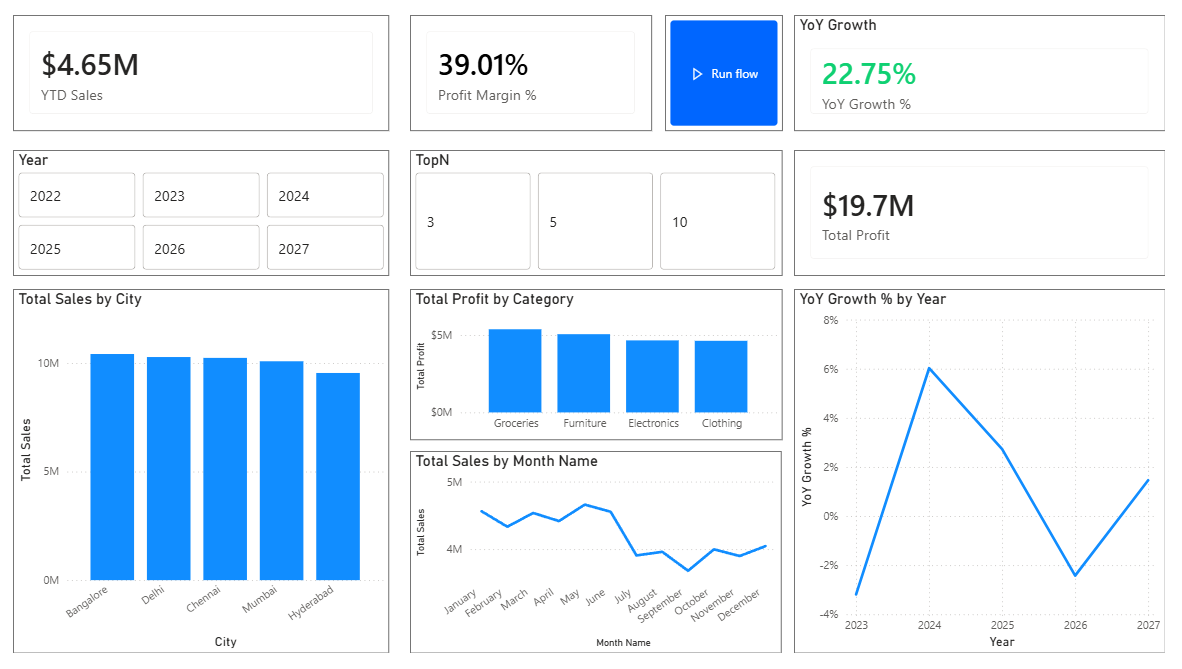

The page's visual inventory and layout, read from the dashboard file:
{"tool":"powerbi","page":{"name":"Page 1","canvas":[1280,720],"ordinal":0},"visuals":[{"type":"cardVisual","fields":{"Data":["Dim_City.YTD Sales"]},"box":[0,11.3,418.2,128.6],"z":0},{"type":"lineChart","fields":{"Category":["Dim_Date.Month Name"],"Y":["Dim_City.Total Sales"]},"box":[440.8,495.9,412.5,224.6],"z":1000},{"type":"advancedSlicerVisual","fields":{"Values":["TopN_Table.TopN"]},"box":[440.8,161.1,414,139.9],"z":2000},{"type":"clusteredColumnChart","fields":{"Category":["Dim_City.City"],"Y":["Dim_City.Total Sales"]},"box":[0,315.1,418.2,405.5],"z":3000},{"type":"advancedSlicerVisual","fields":{"Values":["Dim_Date.Year"]},"box":[0,161.1,418.2,139.9],"z":4000},{"type":"cardVisual","title":"YoY Growth","fields":{"Data":["Dim_City.YoY Growth %"]},"box":[867.5,11.3,412.5,128.6],"z":5000},{"type":"cardVisual","fields":{"Data":["Dim_City.Profit Margin %"]},"box":[440.8,11.3,414,128.6],"z":6000},{"type":"lineChart","fields":{"Category":["Dim_Date.Year"],"Y":["Dim_City.YoY Growth %"]},"box":[867.5,315.1,412.5,405.5],"z":7000},{"type":"columnChart","fields":{"Category":["Fact_Sales.Category"],"Y":["Dim_City.Total Profit"]},"box":[440.8,315.1,414,168.1],"z":8000},{"type":"cardVisual","fields":{"Data":["Dim_City.Total Profit"]},"box":[867.5,161.1,412.5,139.9],"z":9000}]}

Visuals, with their boxes in screenshot pixels (x1, y1, x2, y2), scaled from the page's 1280x720 canvas onto the 1182x669 screenshot:
cardVisual - Dim_City.YTD Sales: bbox=(0, 10, 386, 130)
lineChart - Dim_Date.Month Name x Dim_City.Total Sales: bbox=(407, 461, 788, 668)
advancedSlicerVisual - TopN_Table.TopN: bbox=(407, 150, 789, 280)
clusteredColumnChart - Dim_City.City x Dim_City.Total Sales: bbox=(0, 293, 386, 668)
advancedSlicerVisual - Dim_Date.Year: bbox=(0, 150, 386, 280)
"YoY Growth" cardVisual: bbox=(801, 10, 1181, 130)
cardVisual - Dim_City.Profit Margin %: bbox=(407, 10, 789, 130)
lineChart - Dim_Date.Year x Dim_City.YoY Growth %: bbox=(801, 293, 1181, 668)
columnChart - Fact_Sales.Category x Dim_City.Total Profit: bbox=(407, 293, 789, 449)
cardVisual - Dim_City.Total Profit: bbox=(801, 150, 1181, 280)
